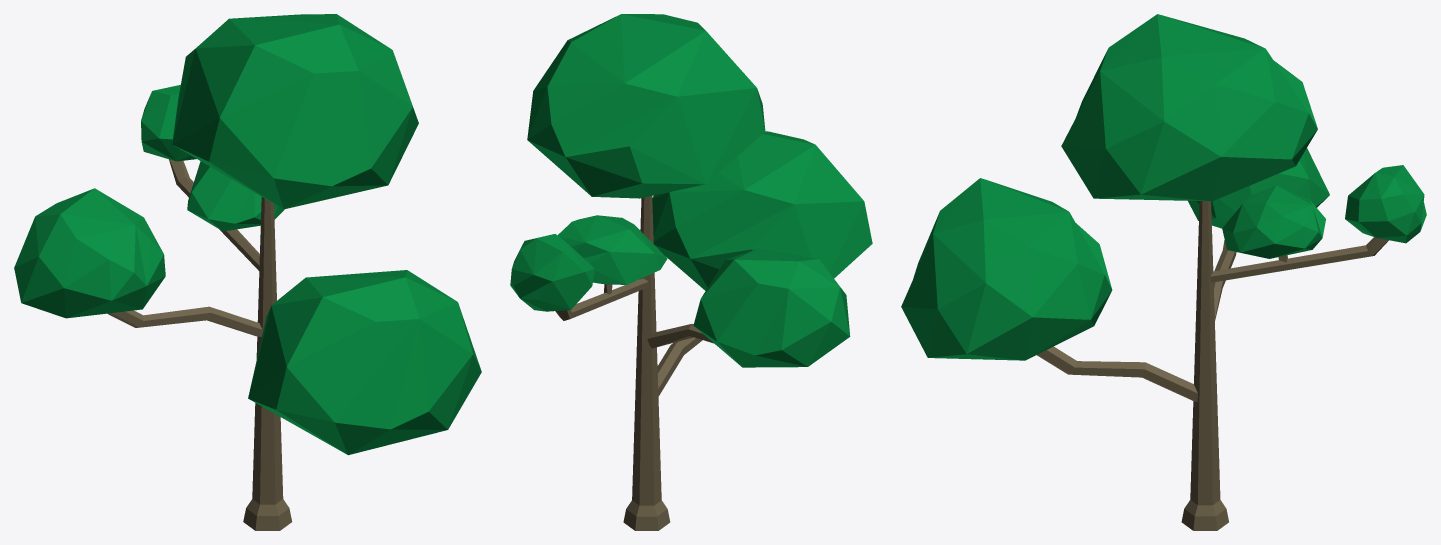
File: SM_Factory_Tree_02.glb
The picture shows the model from 3 angles, left to right: view 1: azimuth 30°, elevation 25°; view 2: azimuth 150°, elevation 25°; view 3: azimuth 270°, elevation 25°; orthographic projection. The views are drawn at different scales.
Parts seen in each view (by area): view 1: SM_Factory_Tree_02; view 2: SM_Factory_Tree_02; view 3: SM_Factory_Tree_02.
Part boxes in pixels (box(x1,y1,x2,y2)): SM_Factory_Tree_02: box(14, 14, 481, 530); SM_Factory_Tree_02: box(510, 14, 872, 530); SM_Factory_Tree_02: box(901, 14, 1426, 530).
Bounding box in the file's own units: 4.09 × 5.67 × 5.51.
Materials: 1 (1 with a texture image).
